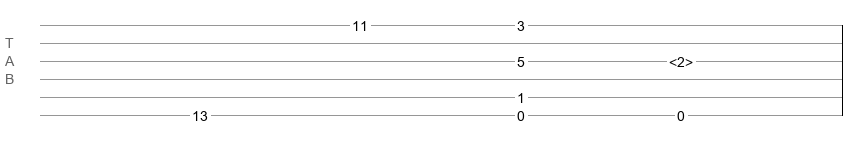0: (517, 108, 525, 118), (677, 108, 685, 118)
1: (517, 90, 525, 100)
11: (352, 18, 368, 28)
13: (192, 108, 208, 118)
3: (517, 18, 525, 28)
5: (517, 54, 525, 64)
harmonic: (669, 54, 693, 64)
